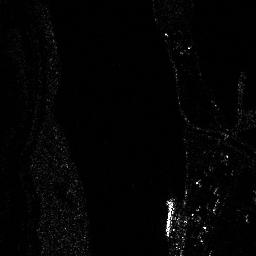ship: (164, 197, 176, 238)
